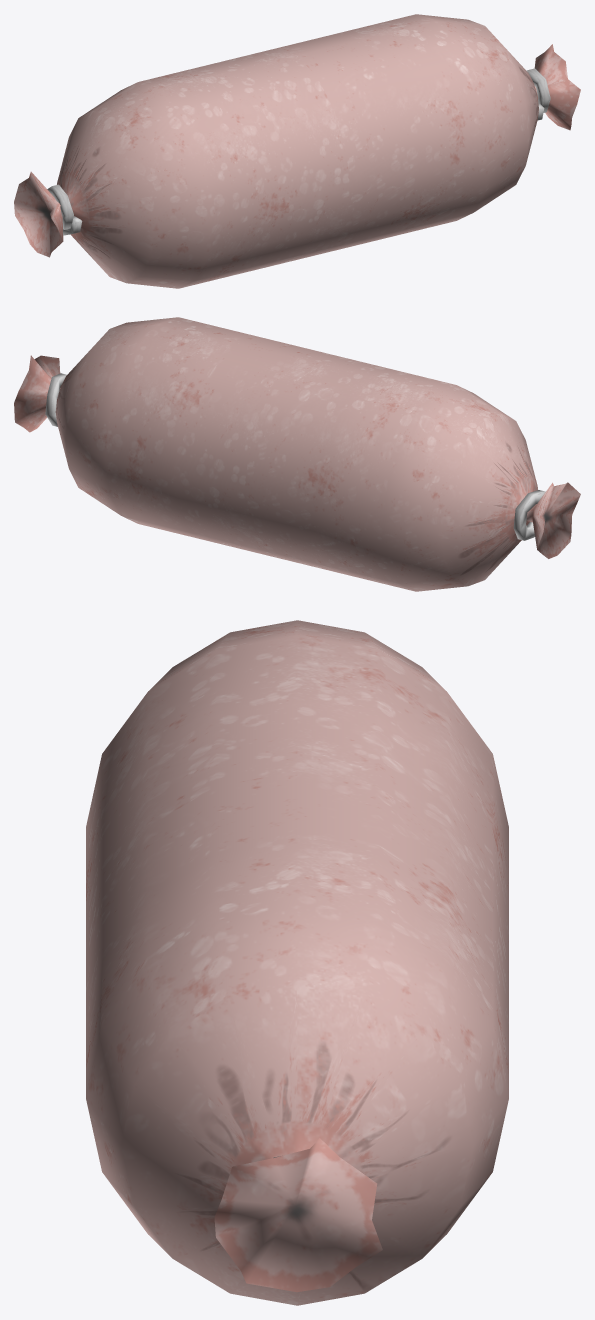
The model's file is mortadella.fbx.
3 views of the same model, one above another, from view 1: azimuth 30°, elevation 25°; view 2: azimuth 150°, elevation 25°; view 3: azimuth 270°, elevation 25° (orthographic). The views are drawn at different scales.
Parts seen in each view (by area): view 1: Makkara, mortadella; view 2: Makkara, mortadella; view 3: Makkara.
Part boxes in pixels (<box>): Makkara: <box>14,14,580,288</box>; mortadella: <box>47,68,550,235</box>; Makkara: <box>14,317,580,591</box>; mortadella: <box>45,373,545,540</box>; Makkara: <box>86,620,508,1305</box>.
Bounding box in the file's own units: 55.53 × 19.21 × 19.21.
